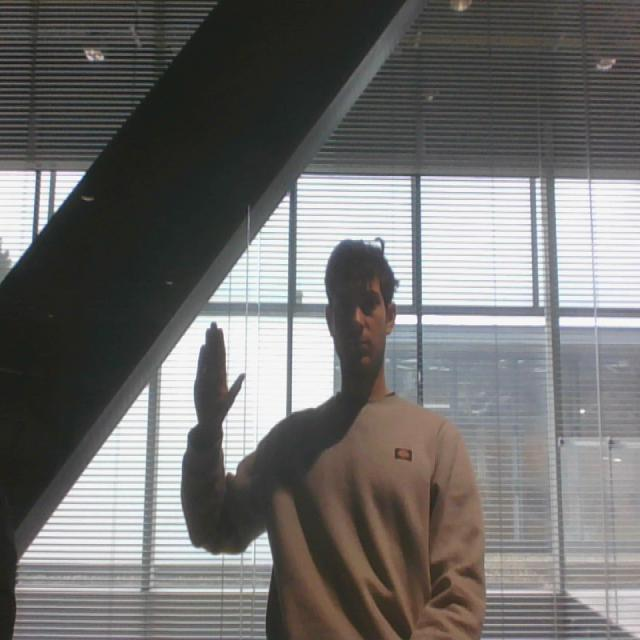backward: (187, 318, 248, 443)
